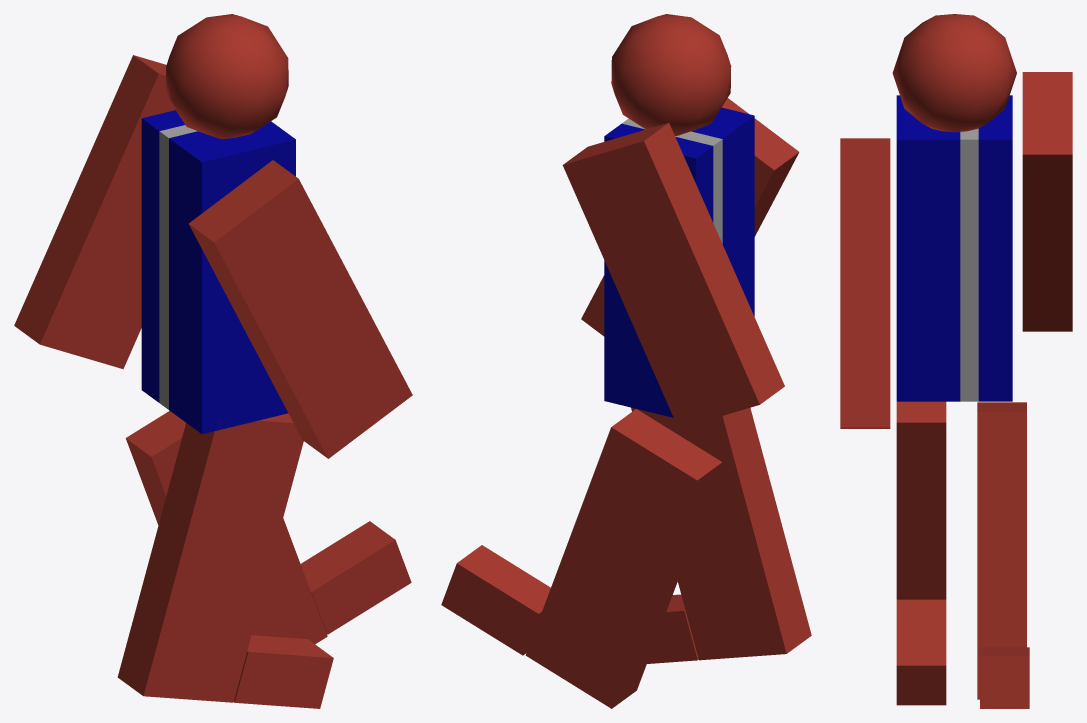
File: player_000005.obj
The picture shows the model from 3 angles, left to right: view 1: azimuth 30°, elevation 25°; view 2: azimuth 150°, elevation 25°; view 3: azimuth 270°, elevation 25°; orthographic projection. The views are drawn at different scales.
Parts seen in each view (by area): view 1: Cube.001, Cube.005, Cube, Cube.006, Icosphere, Cube.002, Cube.004, Cube.003; view 2: Cube.006, Cube.002, Cube.001, Cube, Icosphere, Cube.004, Cube.005, Cube.003; view 3: Cube, Cube.005, Cube.006, Cube.002, Icosphere, Cube.001, Cube.003, Cube.004.
Boxes of the visible parts, x1,y1,x2,y2 form: Cube.001: (117,413,303,702); Cube.005: (189,160,412,458); Cube: (141,110,295,434); Cube.006: (14,55,175,369); Icosphere: (166,14,288,139); Cube.002: (125,411,327,644); Cube.004: (300,521,411,634); Cube.003: (233,635,333,708); Cube.006: (562,123,784,428); Cube.002: (525,409,722,708); Cube.001: (631,407,811,660); Cube: (604,107,754,417); Icosphere: (611,14,731,135); Cube.004: (441,545,550,655); Cube.005: (581,98,799,336); Cube.003: (647,594,698,663); Cube: (896,95,1012,401); Cube.005: (840,138,890,428); Cube.006: (1022,72,1072,331); Cube.002: (977,402,1026,699); Icosphere: (892,14,1016,132); Cube.001: (896,401,946,599); Cube.003: (896,599,946,705); Cube.004: (980,647,1029,708).
Size of the model in its own units: 1.53 by 2.87 by 0.9137.
